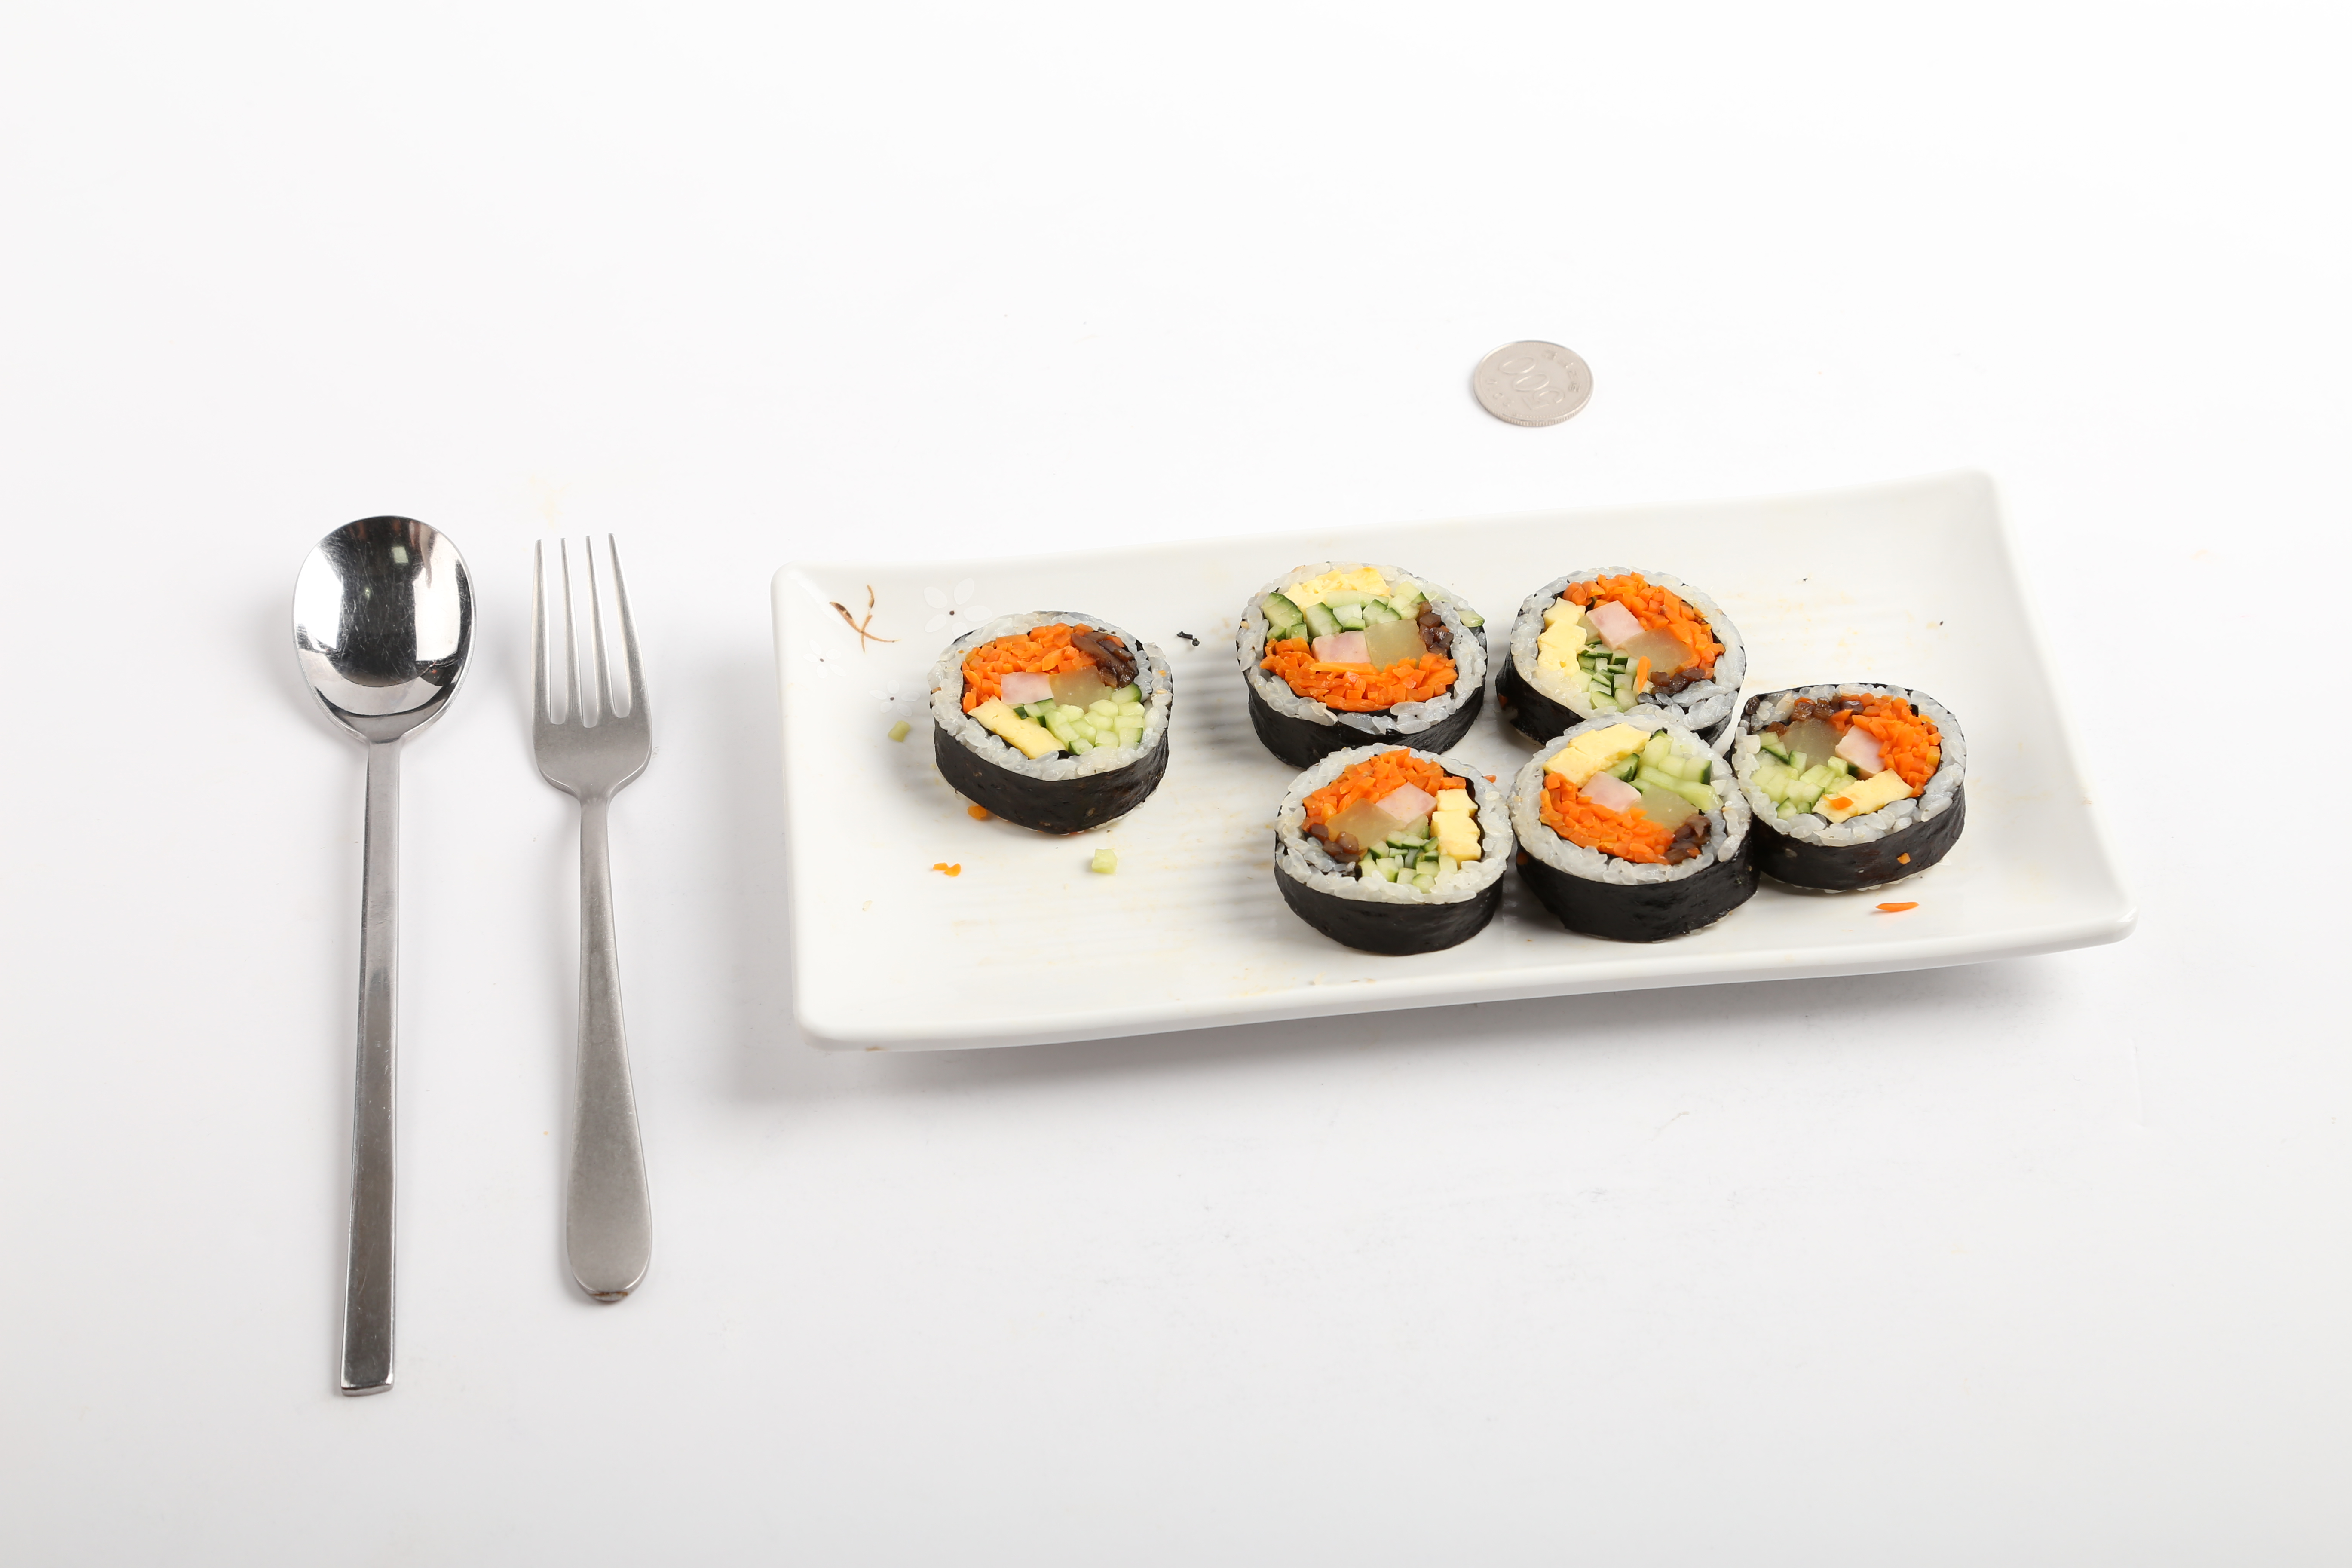dish: (766, 467, 2142, 1055)
ref_coin: (1459, 332, 1594, 434)
ref_fork: (525, 528, 651, 864)
ref_spoon: (287, 514, 479, 838)
김밥: (929, 551, 1969, 957)
